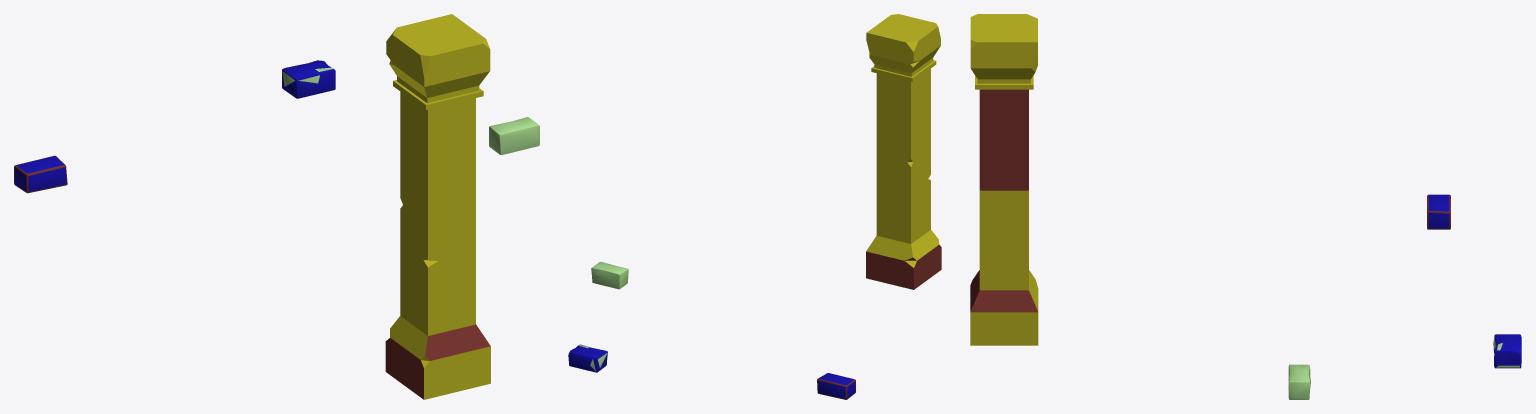
The model's file is Ruins_Pillar_low.fbx.
3 views of the same model, side by side, from view 1: azimuth 30°, elevation 25°; view 2: azimuth 150°, elevation 25°; view 3: azimuth 270°, elevation 25° (orthographic). The views are drawn at different scales.
Visible parts, largest first — view 1: base_stone1_low; view 2: base_stone1_low; view 3: base_stone1_low.
Boxes of the visible parts, left/top/right/bottom form: base_stone1_low: left=14, top=14, right=539, bottom=399; base_stone1_low: left=568, top=14, right=941, bottom=399; base_stone1_low: left=970, top=14, right=1521, bottom=399.
Size of the model in its own units: 270 by 202 by 334.
